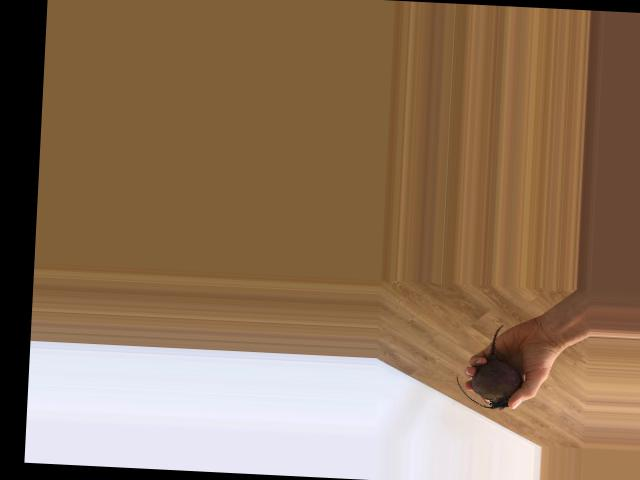beet: (454, 323, 525, 411)
